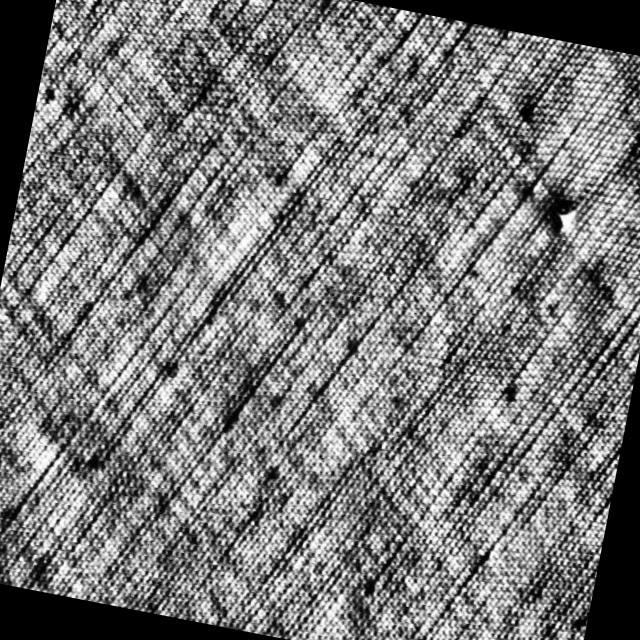cut: (550, 194, 581, 237)
